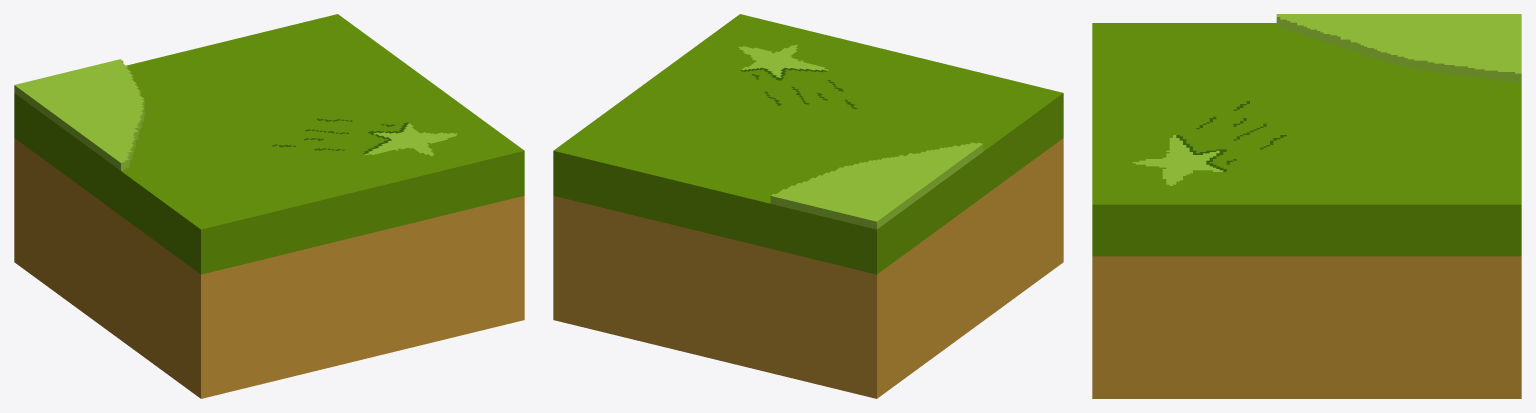
The picture shows the model from 3 angles, left to right: view 1: azimuth 30°, elevation 25°; view 2: azimuth 150°, elevation 25°; view 3: azimuth 270°, elevation 25°; orthographic projection. The views are drawn at different scales.
Visible parts, largest first — view 1: 16L; view 2: 16L; view 3: 16L.
Boxes of the visible parts, box(x1,y1,x2,y2) form: 16L: box(14, 14, 524, 398); 16L: box(553, 14, 1063, 398); 16L: box(1092, 14, 1521, 398).
Size of the model in its own units: 12.8 by 6.7 by 12.8.
1 material, 1 textured.
